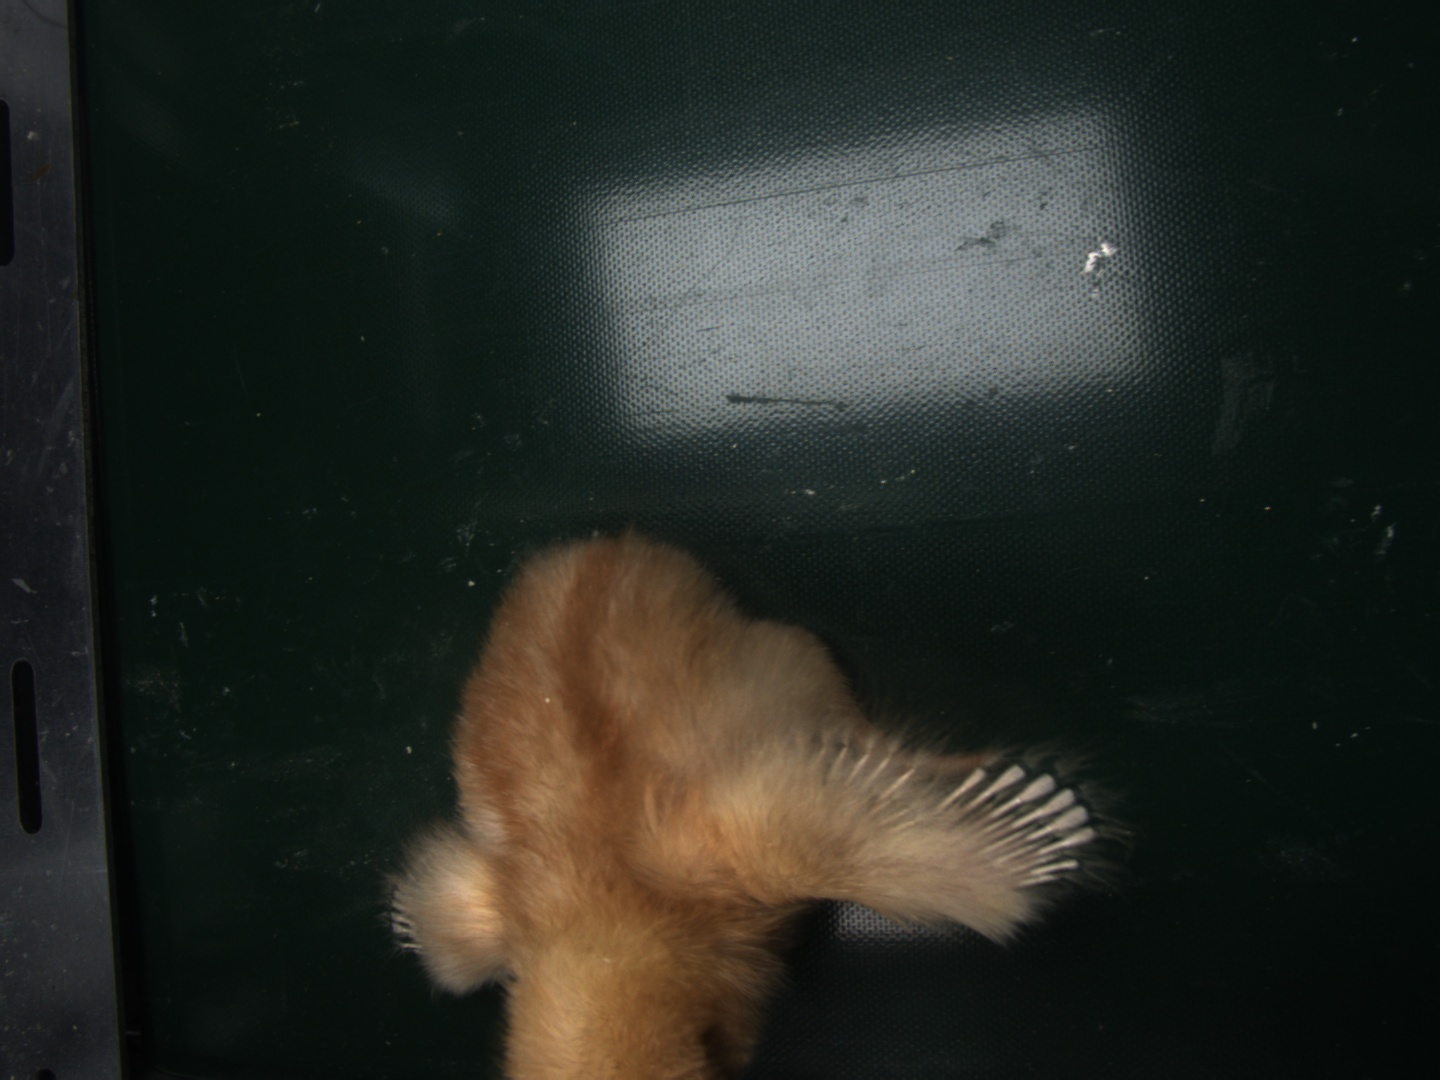female: (937, 766, 1095, 888)
